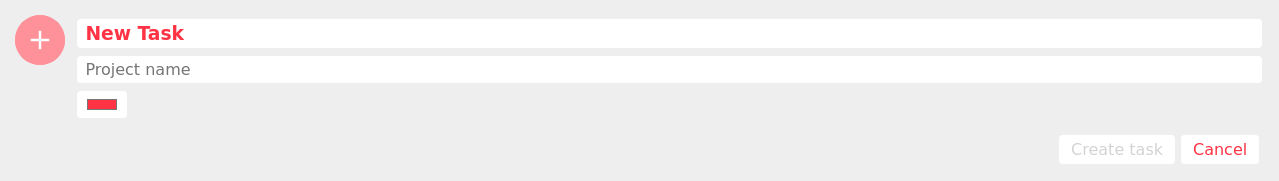
Test: CreateTaskForm › allows form submit when both taskName and projectName are set
Taskname was set in the previous test
Type "New Project" into the field with id "new-project-name" at [670, 69], box [77,56,1262,83]
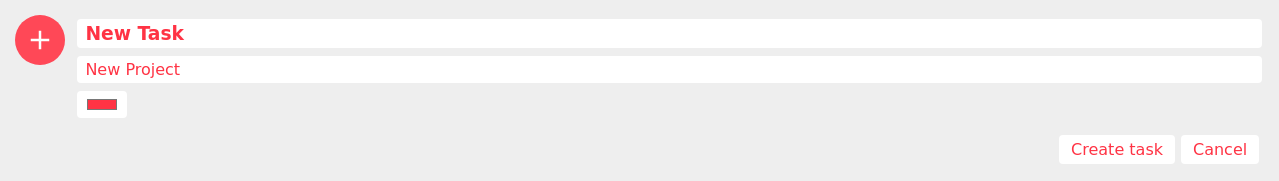
Expected: the 1st button with class "confirm" is enabled, [15,15,65,65]
